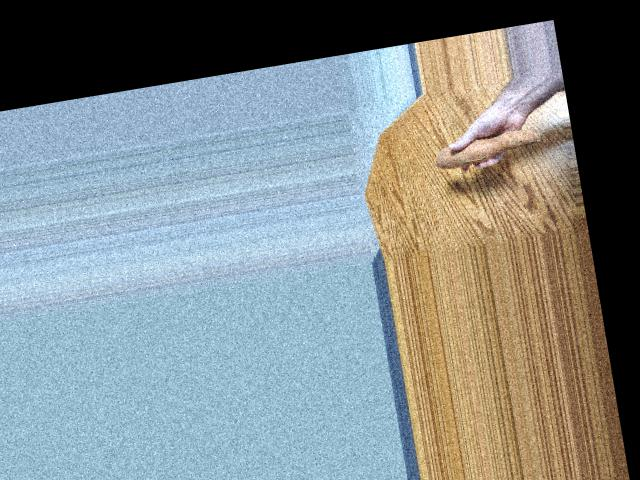sweet_potato: (425, 120, 545, 171)
